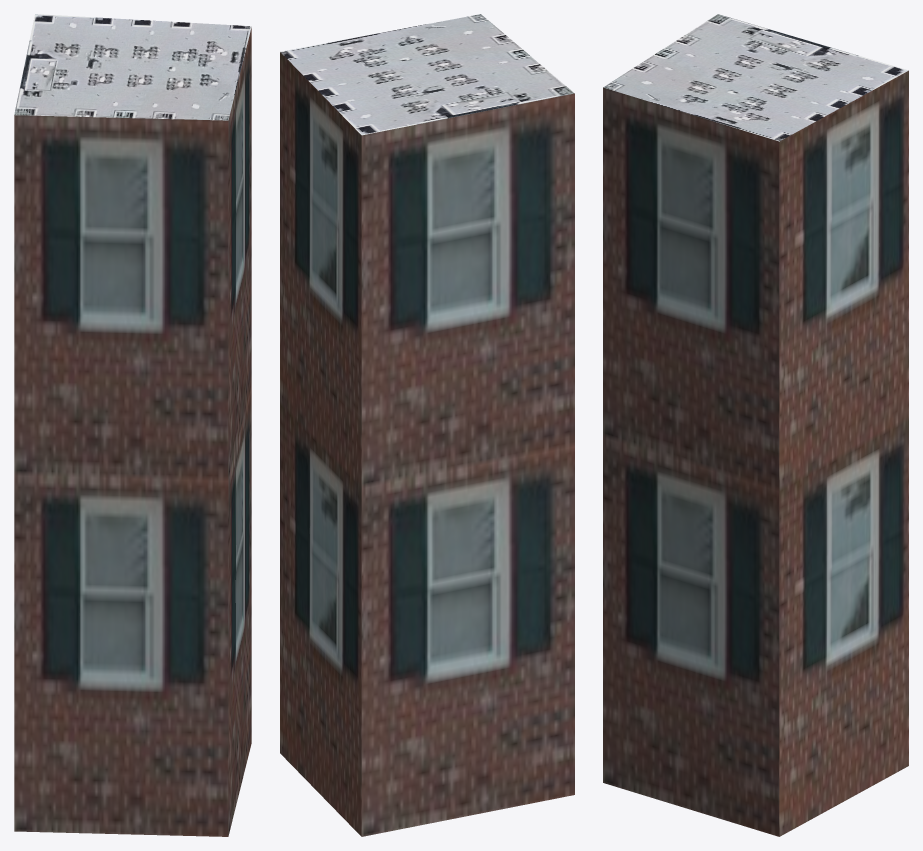
Rendered from ResTex__4390.fbx.
3 views of the same model, side by side, from view 1: azimuth 30°, elevation 25°; view 2: azimuth 150°, elevation 25°; view 3: azimuth 270°, elevation 25° (orthographic). The views are drawn at different scales.
Parts seen in each view (by area): view 1: CityEngineMaterial_14_m, CityEngineMaterial_8_m; view 2: CityEngineMaterial_14_m, CityEngineMaterial_8_m; view 3: CityEngineMaterial_14_m, CityEngineMaterial_8_m.
Part boxes in pixels (x1=…): CityEngineMaterial_14_m: x1=14, y1=28, x2=251, y2=836; CityEngineMaterial_8_m: x1=14, y1=14, x2=251, y2=120; CityEngineMaterial_14_m: x1=280, y1=52, x2=574, y2=836; CityEngineMaterial_8_m: x1=280, y1=14, x2=574, y2=135; CityEngineMaterial_14_m: x1=603, y1=70, x2=908, y2=836; CityEngineMaterial_8_m: x1=603, y1=14, x2=908, y2=141.
Size of the model in its own units: 2.36 by 6 by 2.39.
2 materials, 2 textured.
